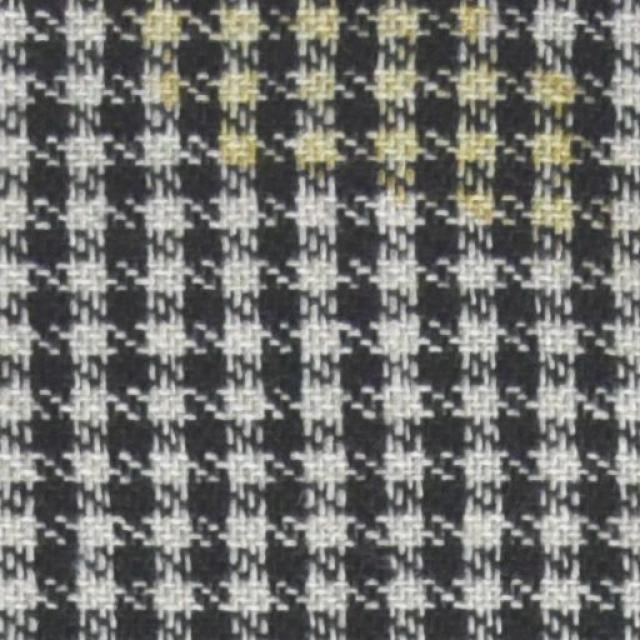Stain: (78, 1, 595, 251)
